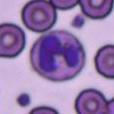N: (31, 30, 86, 81)
